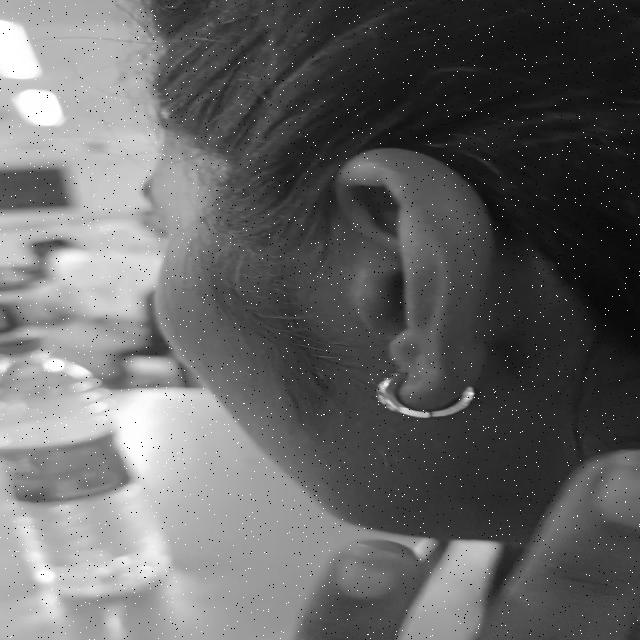ear: (337, 148, 524, 409)
